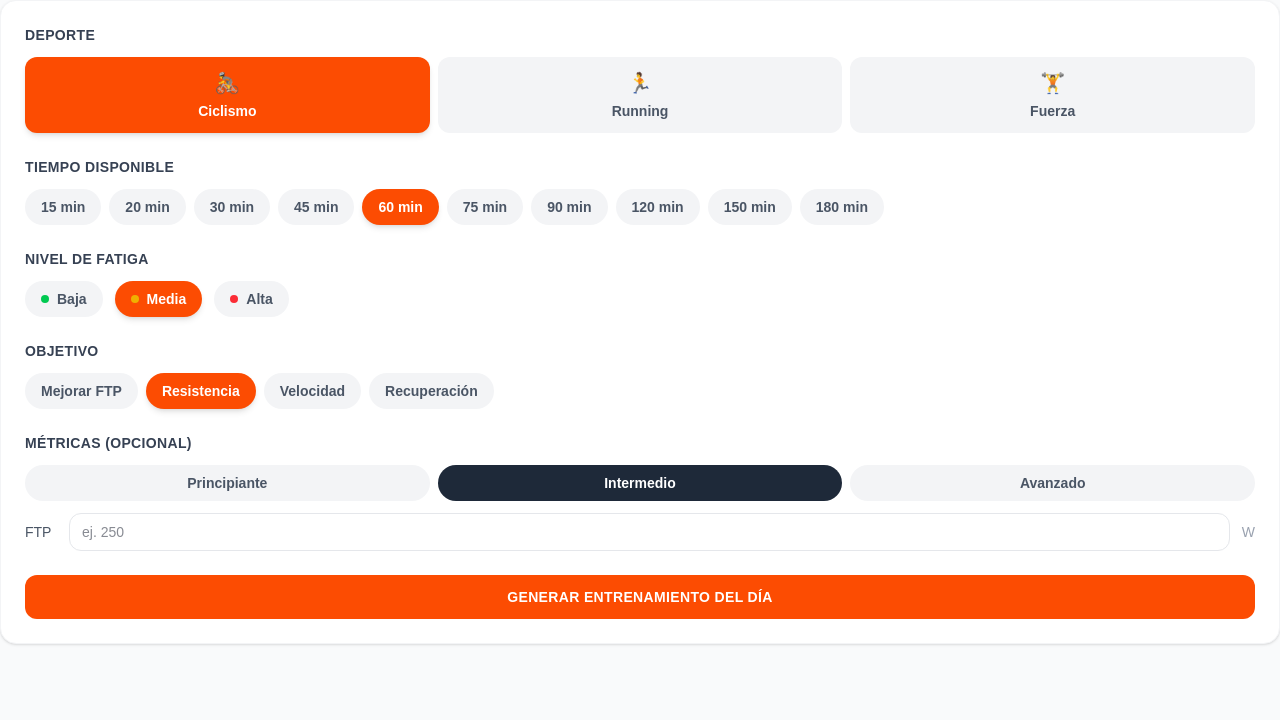
Test case: WorkoutForm › sport switching › shows strength goals when Fuerza is selected
The width and height of the screenshot is (1280, 720).
Click the button "🏋️ Fuerza": click(1053, 95) [850,57,1255,133]
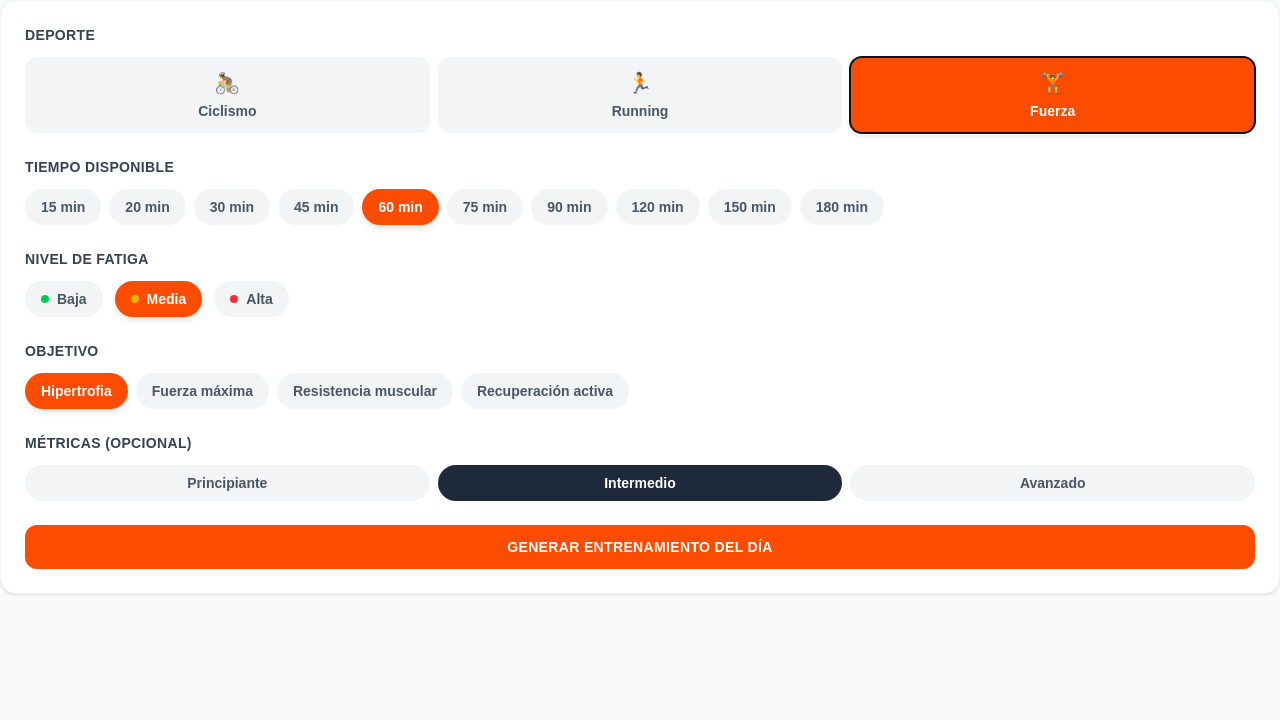
Check: the button "Hipertrofia" is shown, box [25,373,128,409]
Check: the button "Mejorar FTP" is gone
